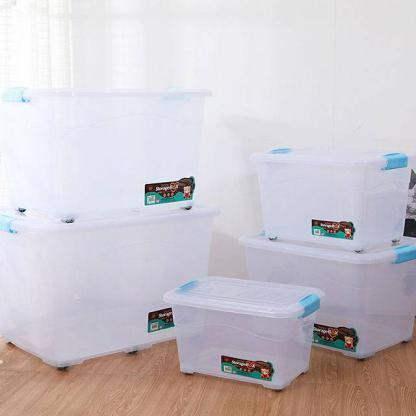plastic_box: (246, 115, 415, 254)
